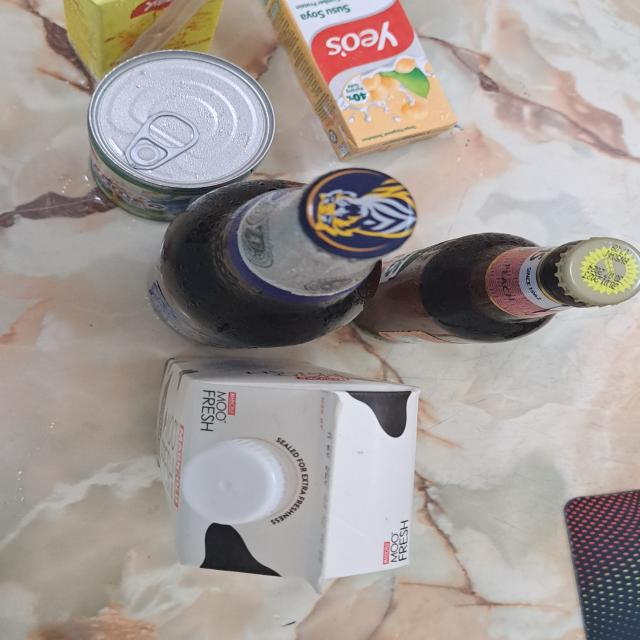can: (82, 47, 275, 218)
drink carton: (160, 356, 420, 582), (257, 0, 461, 158), (56, 0, 238, 81)
glass bottle: (157, 167, 421, 355), (357, 231, 640, 346)
plastic bottle cap: (174, 439, 280, 529)
pop tab: (119, 105, 198, 172)
